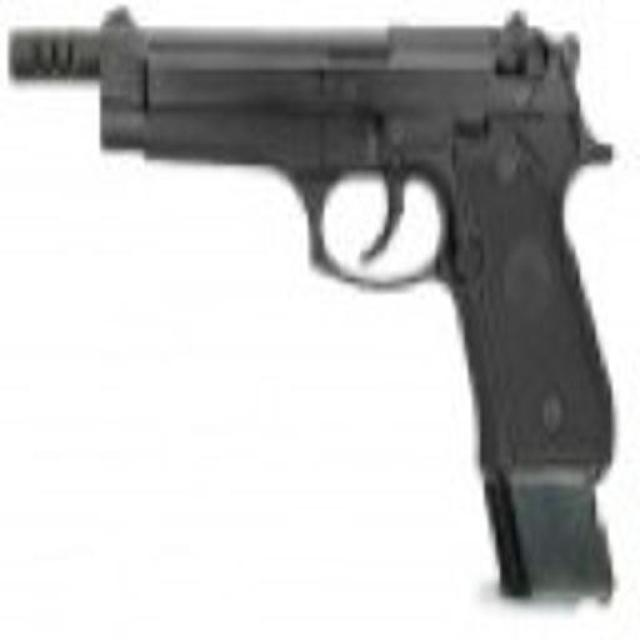pistol: (4, 5, 615, 485)
